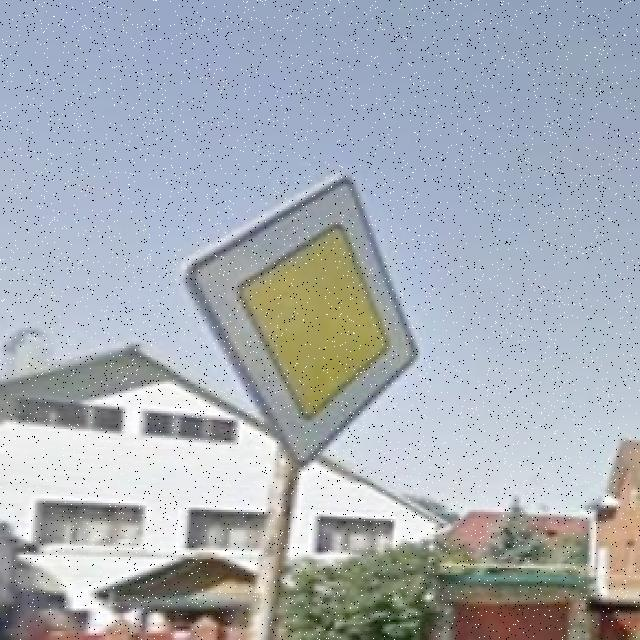Droga z pierwszenstwem: (180, 168, 420, 464)
